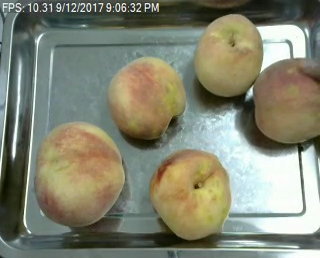Peach: (35, 119, 125, 224), (149, 149, 231, 241), (107, 55, 187, 140), (193, 12, 264, 96), (254, 54, 320, 144)
